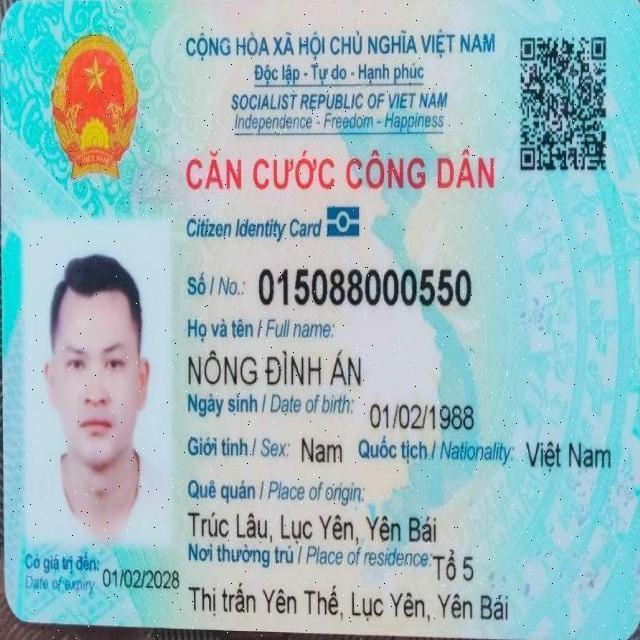current_place: (185, 582, 532, 630), (432, 546, 484, 588)
dob: (365, 394, 484, 434)
expire_date: (99, 559, 183, 596)
gender: (296, 433, 347, 469)
id: (253, 256, 474, 312)
name: (183, 345, 370, 390)
nationality: (518, 426, 619, 478)
origin_place: (182, 505, 443, 548)
qr: (514, 29, 622, 179)
